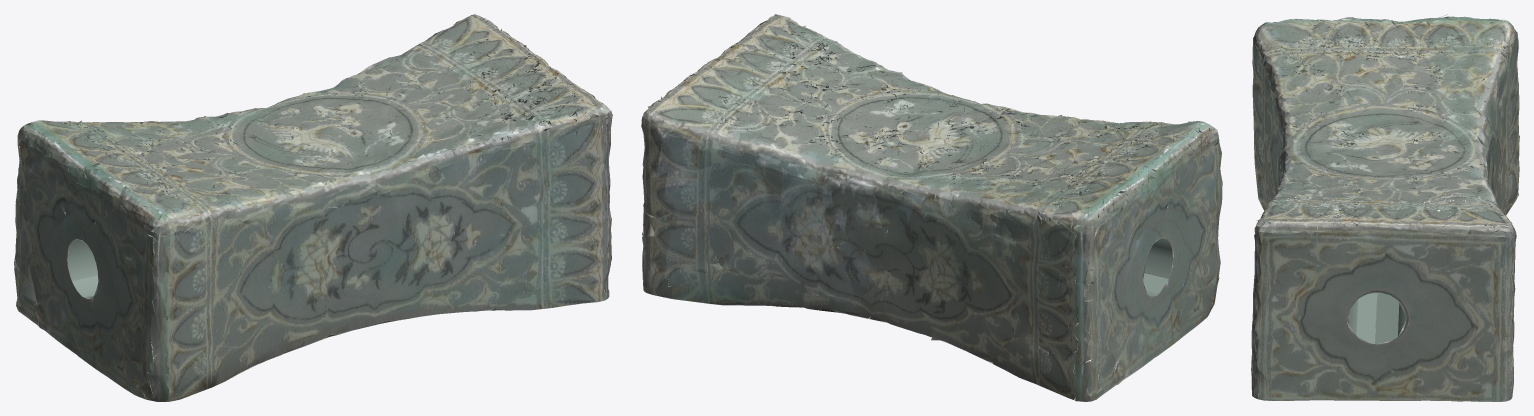
File: observation-1.glb
3 views of the same model, side by side, from view 1: azimuth 30°, elevation 25°; view 2: azimuth 150°, elevation 25°; view 3: azimuth 270°, elevation 25° (orthographic). The views are drawn at different scales.
Visible parts, largest first — view 1: Pillow · camera-calibrated photo reconstruction; view 2: Pillow · camera-calibrated photo reconstruction; view 3: Pillow · camera-calibrated photo reconstruction.
Boxes of the visible parts, x1,y1,x2,y2 form: Pillow · camera-calibrated photo reconstruction: (14, 14, 612, 401); Pillow · camera-calibrated photo reconstruction: (641, 14, 1222, 401); Pillow · camera-calibrated photo reconstruction: (1251, 14, 1519, 401).
Size of the model in its own units: 2.2 by 0.8596 by 1.17.
Materials: 2 (2 with a texture image).
